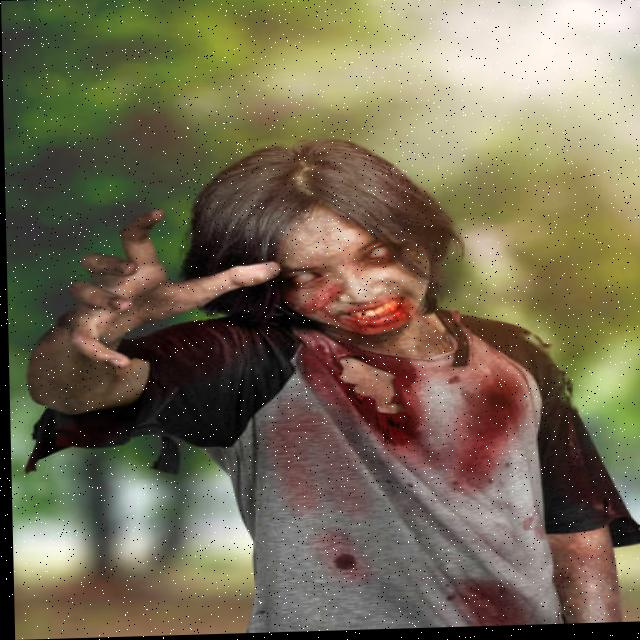-: (266, 217, 447, 343)
